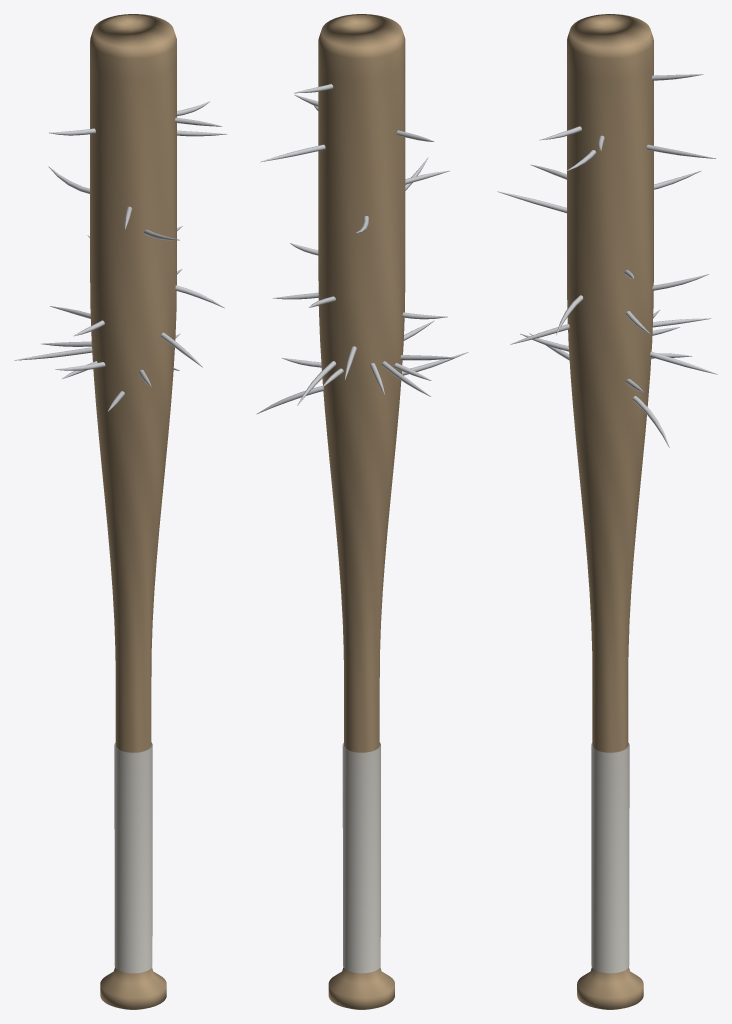
Rendered from nail_bat.glb.
The picture shows the model from 3 angles, left to right: view 1: azimuth 30°, elevation 25°; view 2: azimuth 150°, elevation 25°; view 3: azimuth 270°, elevation 25°; orthographic projection.
Visible parts, largest first — view 1: Bat; view 2: Bat; view 3: Bat.
Part boxes in pixels (x1,y1,x2,y2): Bat: (14,14,227,1009); Bat: (256,14,468,1009); Bat: (497,14,717,1009).
Size of the model in its own units: 0.1536 by 0.84 by 0.1725.
